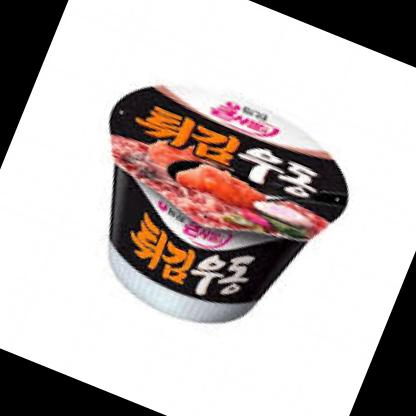Ramen: (50, 50, 370, 360)
